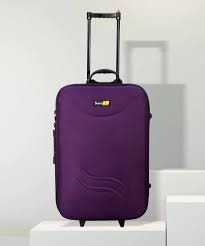suitcase: (51, 10, 153, 229)
